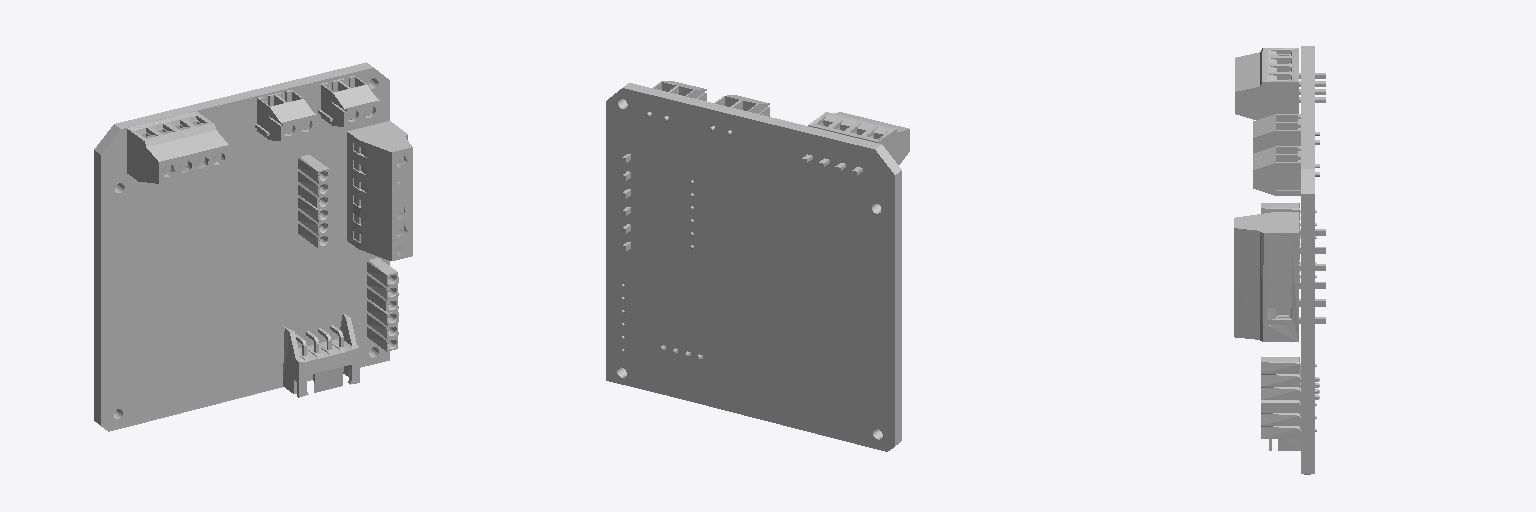
Rendered from OBJ_FFF_PCB copy.obj.
3 renders of one model, left to right at view 1: azimuth 30°, elevation 25°; view 2: azimuth 150°, elevation 25°; view 3: azimuth 270°, elevation 25°, orthographic.
Size of the model in its own units: 233 by 231 by 64.08.